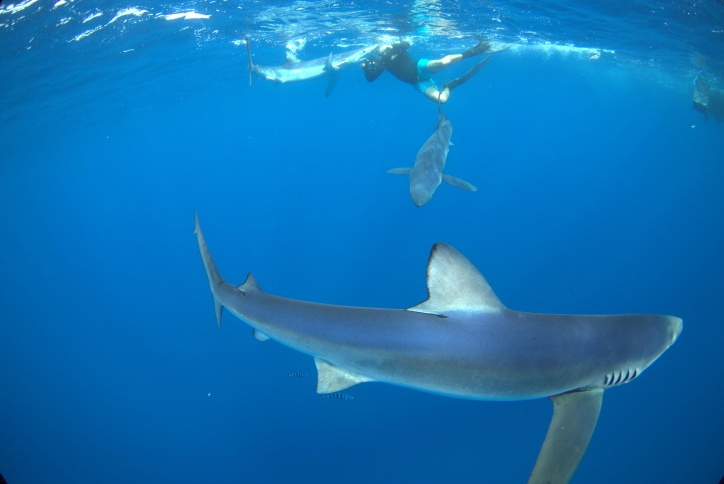Azul: (183, 206, 702, 484)
